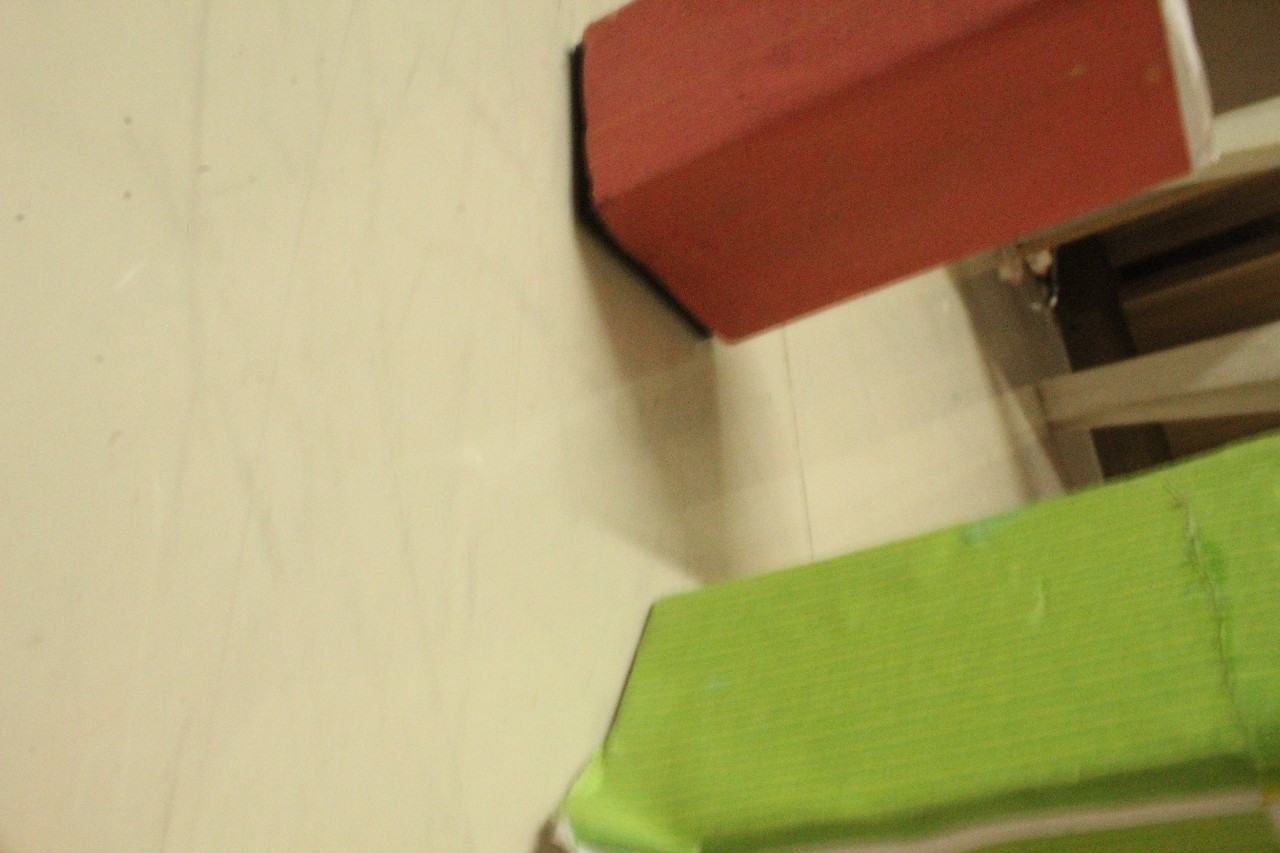green: (515, 410, 1280, 853)
red: (545, 0, 1280, 379)
